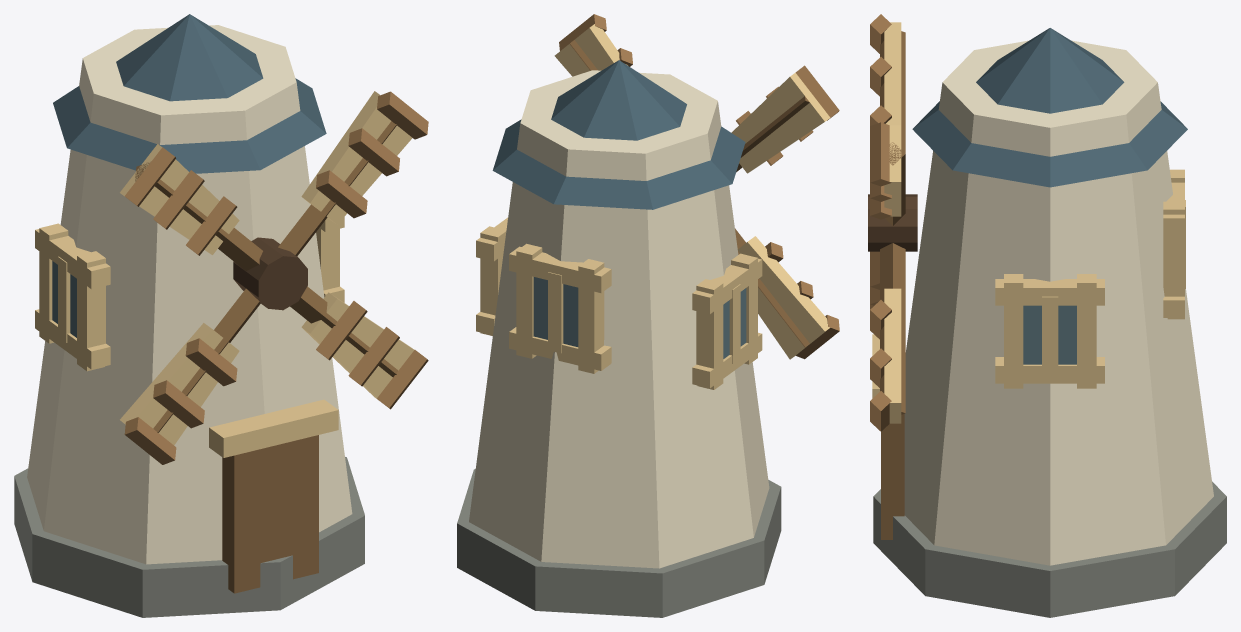
The model's file is mill.glb.
3 views of the same model, side by side, from view 1: azimuth 30°, elevation 25°; view 2: azimuth 150°, elevation 25°; view 3: azimuth 270°, elevation 25° (orthographic). The views are drawn at different scales.
Visible parts, largest first — view 1: Mill_tapered_tower, move_spin_sails, Mill_stone_foot, Mill_conical_roof, Mill_front_door, Mill_door_lintel, Mill_side_window_jamb, Mill_side_window_jamb.001, Mill_side_window_sill.001, Mill_side_window_sill, Mill_side_window_jamb.002, Mill_side_window_mullion (+1 smaller); view 2: Mill_tapered_tower, Mill_stone_foot, Mill_conical_roof, move_spin_sails, Mill_back_window_jamb, Mill_side_window_jamb.001, Mill_back_window_jamb.001, Mill_back_window_sill.001, Mill_back_window_light, Mill_back_window_sill, Mill_side_window_jamb.003, Mill_side_window_sill.001 (+6 smaller); view 3: Mill_tapered_tower, Mill_stone_foot, Mill_conical_roof, move_spin_sails, Mill_front_door, Mill_side_window_jamb.003, Mill_side_window_jamb.002, Mill_side_window_light.001, Mill_side_window_sill.003, Mill_back_window_jamb.001, Mill_side_window_sill.002, Mill_side_window_mullion.001 (+1 smaller).
Part boxes in pixels (<box>): Mill_tapered_tower: <box>27,25,352,564</box>; move_spin_sails: <box>120,91,428,464</box>; Mill_stone_foot: <box>14,457,364,617</box>; Mill_conical_roof: <box>53,14,326,173</box>; Mill_front_door: <box>222,435,318,593</box>; Mill_door_lintel: <box>209,399,338,457</box>; Mill_side_window_jamb: <box>77,251,105,371</box>; Mill_side_window_jamb.001: <box>39,223,68,343</box>; Mill_side_window_sill.001: <box>35,229,110,289</box>; Mill_side_window_sill: <box>35,309,110,369</box>; Mill_side_window_jamb.002: <box>316,226,339,290</box>; Mill_side_window_mullion: <box>58,256,70,342</box>; Mill_tapered_tower: <box>469,70,769,568</box>; Mill_stone_foot: <box>457,469,781,617</box>; Mill_conical_roof: <box>492,60,745,209</box>; move_spin_sails: <box>554,14,839,359</box>; Mill_back_window_jamb: <box>578,259,604,373</box>; Mill_side_window_jamb.001: <box>696,279,723,389</box>; Mill_back_window_jamb.001: <box>516,243,542,358</box>; Mill_back_window_sill.001: <box>509,246,611,292</box>; Mill_back_window_light: <box>533,277,578,346</box>; Mill_back_window_sill: <box>509,327,611,370</box>; Mill_side_window_jamb.003: <box>480,226,506,335</box>; Mill_side_window_sill.001: <box>692,258,762,314</box>; Mill_tapered_tower: <box>904,40,1213,565</box>; Mill_stone_foot: <box>873,481,1226,617</box>; Mill_conical_roof: <box>912,28,1187,187</box>; move_spin_sails: <box>868,14,917,431</box>; Mill_front_door: <box>881,414,904,539</box>; Mill_side_window_jamb.003: <box>1077,274,1096,388</box>; Mill_side_window_jamb.002: <box>1004,274,1023,388</box>; Mill_side_window_light.001: <box>1023,305,1076,364</box>; Mill_side_window_sill.003: <box>995,279,1104,305</box>; Mill_back_window_jamb.001: <box>1163,201,1184,319</box>; Mill_side_window_sill.002: <box>995,357,1104,383</box>; Mill_side_window_mullion.001: <box>1042,296,1058,375</box>.
Bounding box in the file's own units: 1.64 × 2.64 × 1.67.
